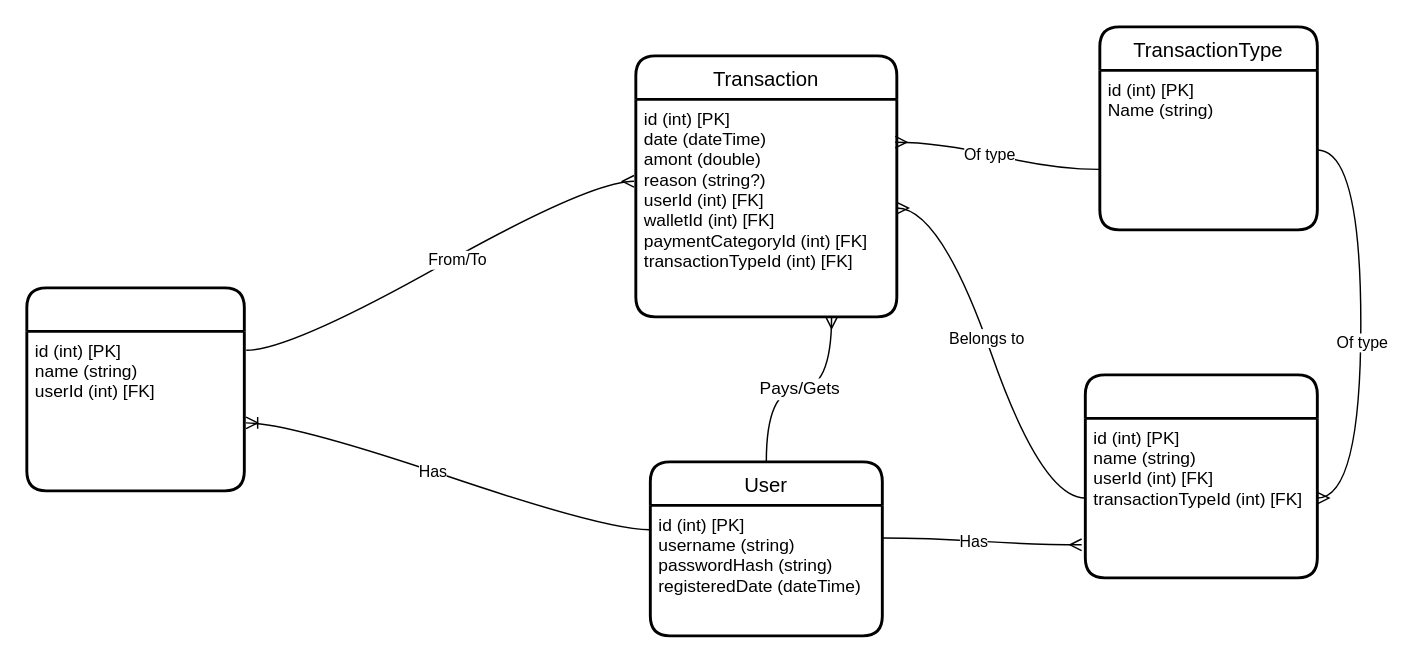
The diagram is 1412 pixels wide and 661 high, and some of its shapes have lost their labels. Here are the shapes that lost their labels. From the top down, the box of each, then its label:
(25, 286, 245, 492): Wallet
(1083, 373, 1318, 579): TransactionCategory
